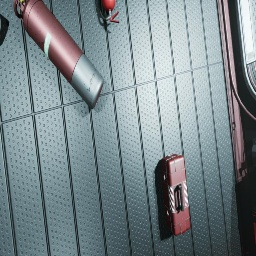0: (0, 17, 1, 31)
FireExtinguisher ]: (98, 0, 119, 23)
FirstAidBox ,: (161, 154, 190, 236)
NitrogenTank ,: (13, 0, 104, 110)
